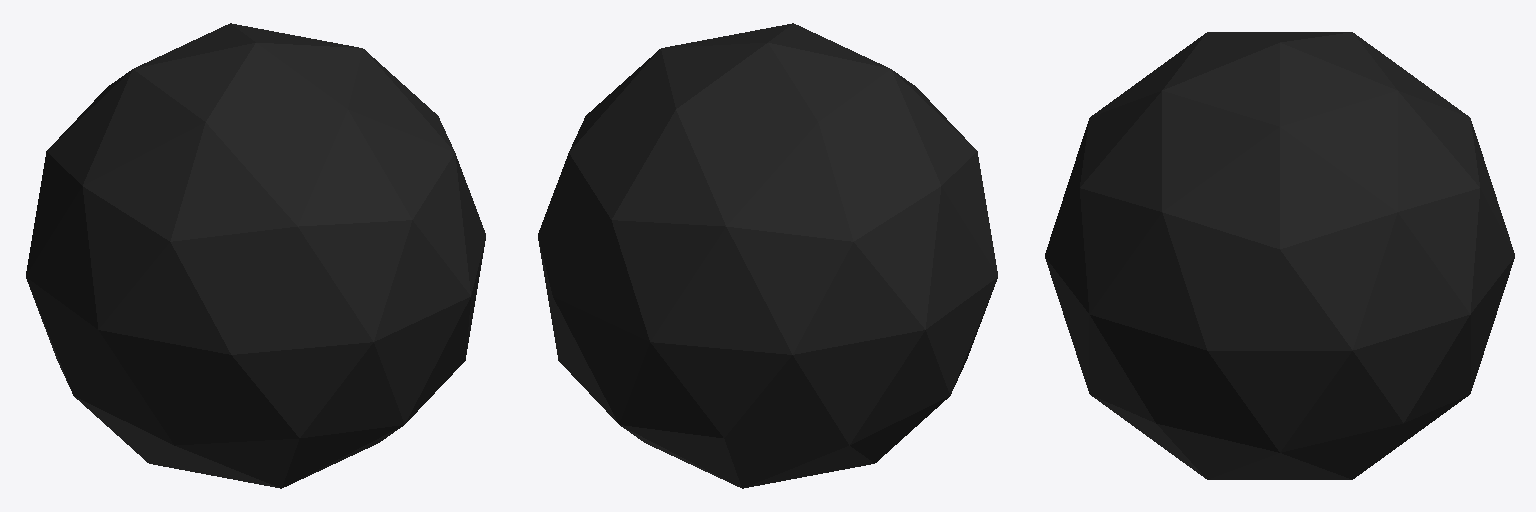
Rendered from rock.obj.
3 renders of one model, left to right at view 1: azimuth 30°, elevation 25°; view 2: azimuth 150°, elevation 25°; view 3: azimuth 270°, elevation 25°, orthographic.
Parts seen in each view (by area): view 1: Icosphere; view 2: Icosphere; view 3: Icosphere.
Boxes of the visible parts, x1,y1,x2,y2 form: Icosphere: [26, 23, 485, 488]; Icosphere: [538, 23, 997, 488]; Icosphere: [1045, 32, 1514, 479].
Size of the model in its own units: 1.9 by 2 by 2.